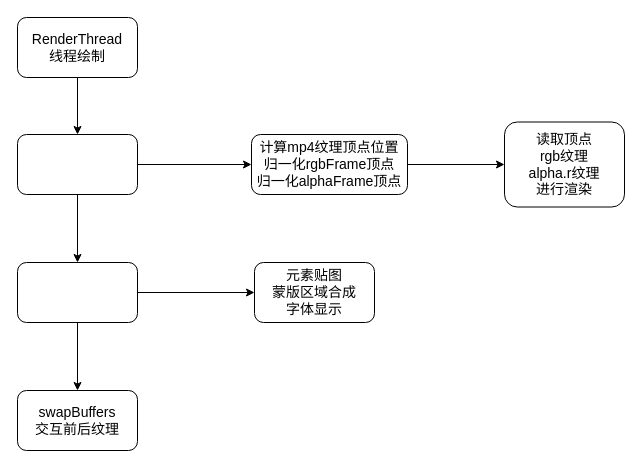
This 642x468 diagram has some shape labels left out. The shapes that lost their labels are listed below. From the top down, each one's centre as x and y in pixels, then its label:
point 77,164: render.cpp 透明mp4绘制
point 77,292: mixrender.cpp 元素遮罩
